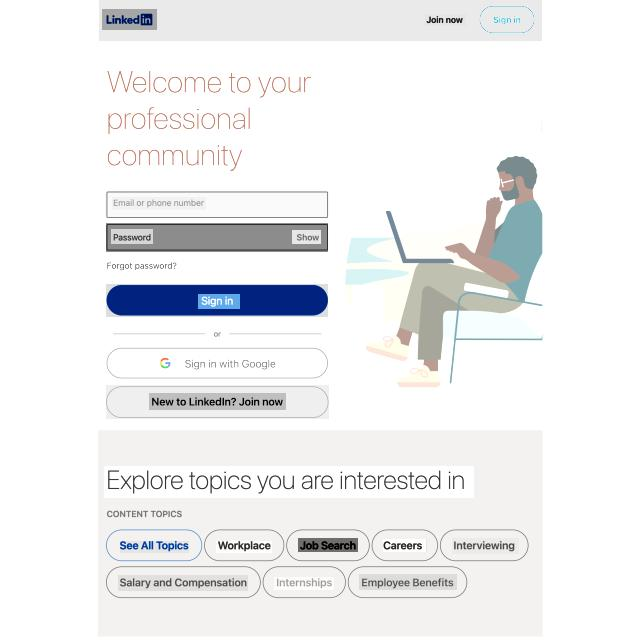CheckBox: (106, 385, 329, 419), (106, 284, 328, 317), (106, 347, 328, 379), (478, 4, 536, 34), (104, 257, 180, 273), (425, 14, 466, 26), (292, 230, 321, 244)
CheckedTextView: (106, 223, 328, 252), (105, 191, 329, 218)
bag: (99, 0, 542, 41)
breadcrumbs: (104, 466, 474, 498)
carousel: (159, 354, 172, 370)
content: (332, 90, 543, 418)
data feed: (149, 393, 286, 410), (118, 575, 248, 591), (359, 574, 457, 590), (183, 357, 279, 371), (452, 538, 519, 554), (298, 538, 358, 552), (120, 541, 189, 553), (274, 577, 334, 590), (216, 541, 272, 553), (198, 294, 240, 309), (383, 539, 428, 552), (491, 13, 523, 26)
date picker: (102, 9, 157, 30)
footer: (112, 198, 206, 212), (111, 229, 153, 244)
image: (103, 68, 315, 170)
